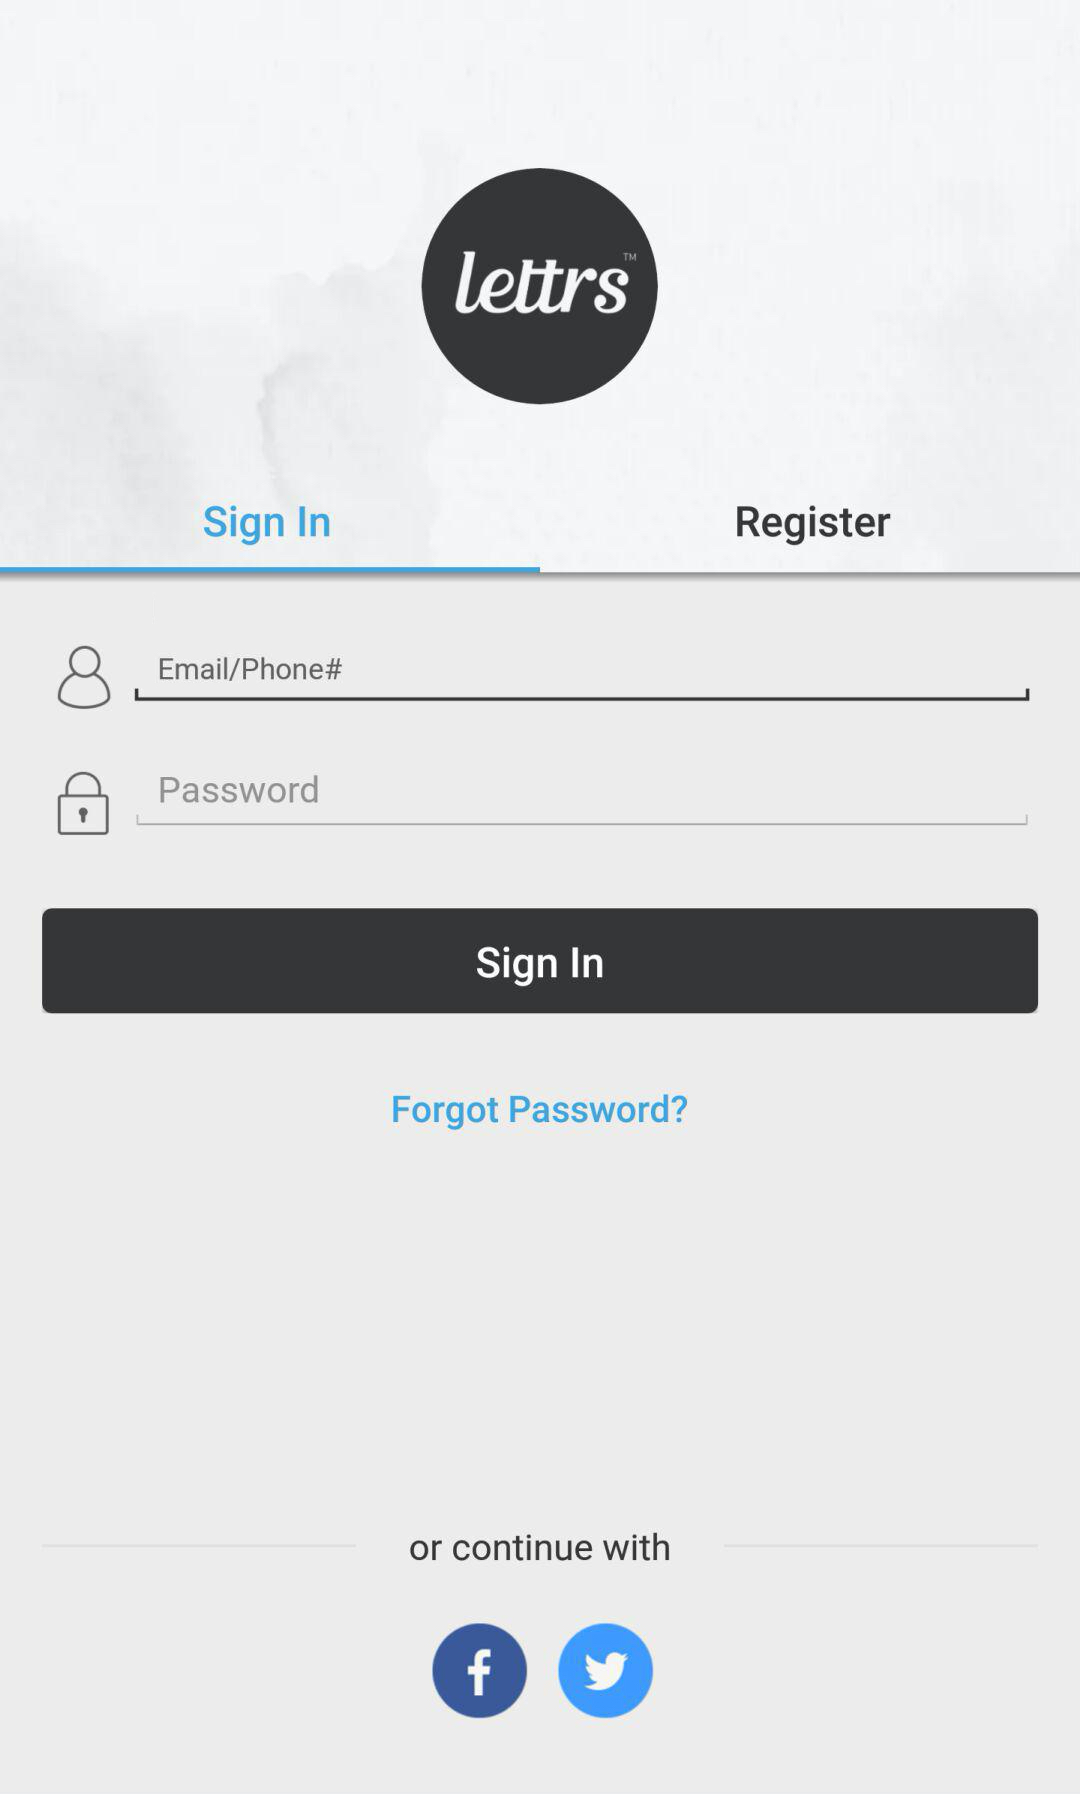EditText: (136, 774, 1029, 827), (135, 656, 1031, 704)
Icon: (559, 1622, 653, 1718), (432, 1624, 528, 1718), (58, 645, 113, 710), (58, 771, 111, 835)
Image: (421, 168, 659, 406)
Multi_Tab: (3, 474, 1080, 578)
Text: (393, 1093, 689, 1132), (409, 1531, 671, 1562), (735, 504, 892, 547), (202, 504, 331, 547), (159, 656, 343, 682), (160, 775, 319, 805)
TextButton: (42, 909, 1038, 1014)
